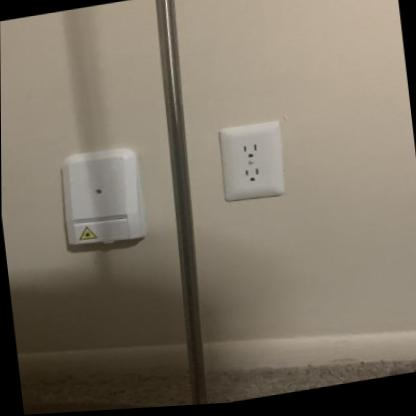OUTLET: (219, 118, 289, 203)
